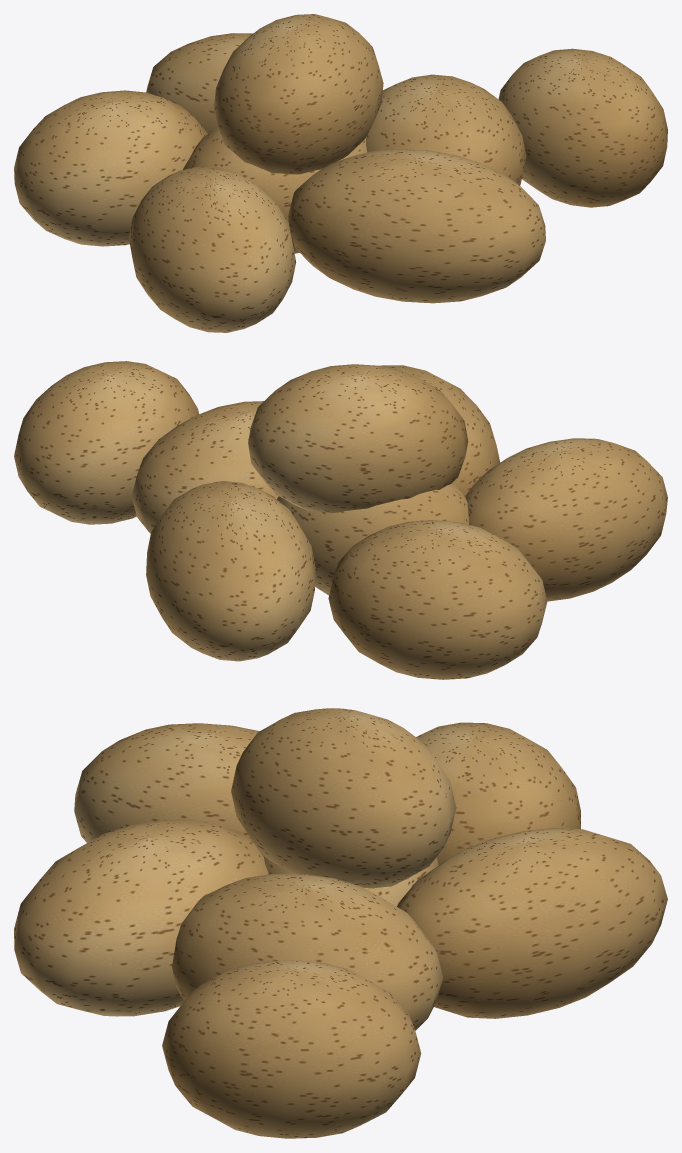
File: veg_potatoes_pile.glb
3 views of the same model, one above another, from view 1: azimuth 30°, elevation 25°; view 2: azimuth 150°, elevation 25°; view 3: azimuth 270°, elevation 25° (orthographic). The views are drawn at different scales.
Parts seen in each view (by area): view 1: veg_potatoes_pile; view 2: veg_potatoes_pile; view 3: veg_potatoes_pile.
Boxes of the visible parts, x1,y1,x2,y2 form: veg_potatoes_pile: (14,14,667,332); veg_potatoes_pile: (14,361,667,679); veg_potatoes_pile: (14,708,667,1138).
Size of the model in its own units: 0.2973 by 0.1089 by 0.2518.
1 material, 1 textured.
